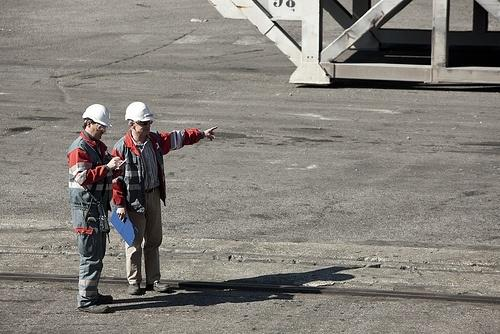bota: (127, 281, 171, 296), (79, 297, 115, 312)
capacete: (81, 101, 114, 130), (122, 99, 153, 125)
pessoa: (113, 97, 181, 297), (63, 101, 113, 312)
uniforme seguranca: (68, 136, 110, 301), (119, 132, 175, 207)
